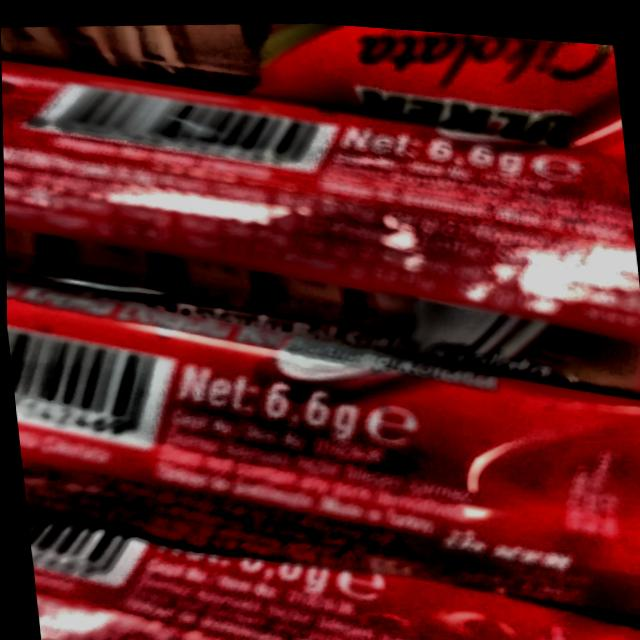Plastic: (5, 281, 640, 619), (1, 59, 640, 339)
